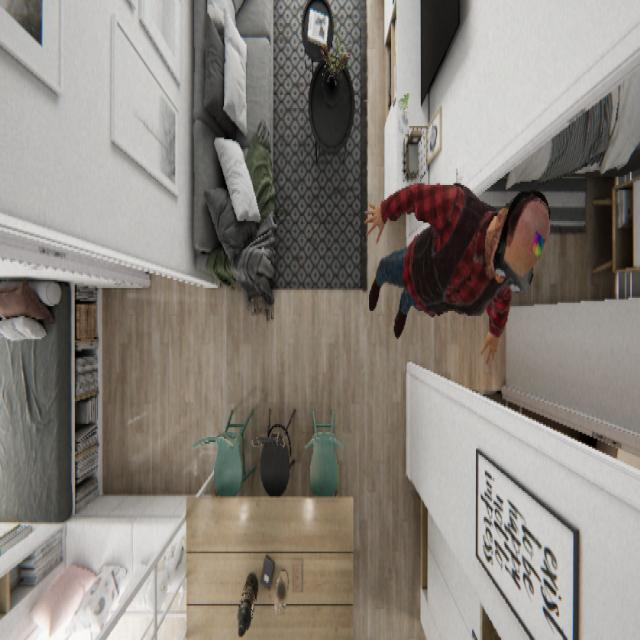Colored-Marker: (530, 226, 546, 260)
Human: (363, 177, 551, 365)
